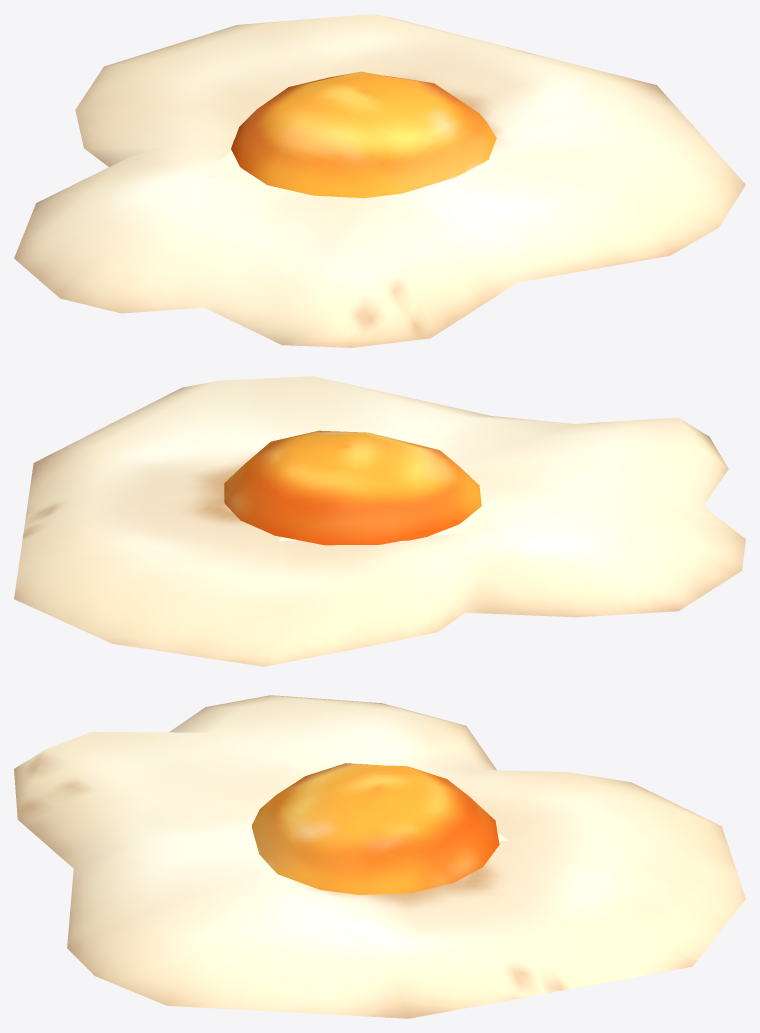
File: 45760c74-40ca-4849-875a-dfe0cbc90d37.glb
The picture shows the model from 3 angles, top to bottom: view 1: azimuth 30°, elevation 25°; view 2: azimuth 150°, elevation 25°; view 3: azimuth 270°, elevation 25°; orthographic projection. The views are drawn at different scales.
Visible parts, largest first — view 1: SunnySideUpEgg; view 2: SunnySideUpEgg; view 3: SunnySideUpEgg.
Part boxes in pixels (left/top/right/bottom): SunnySideUpEgg: left=14, top=14, right=745, bottom=347; SunnySideUpEgg: left=14, top=376, right=745, bottom=666; SunnySideUpEgg: left=14, top=695, right=745, bottom=1018.
Size of the model in its own units: 0.17 by 0.0232 by 0.1624.
Materials: 1 (1 with a texture image).
